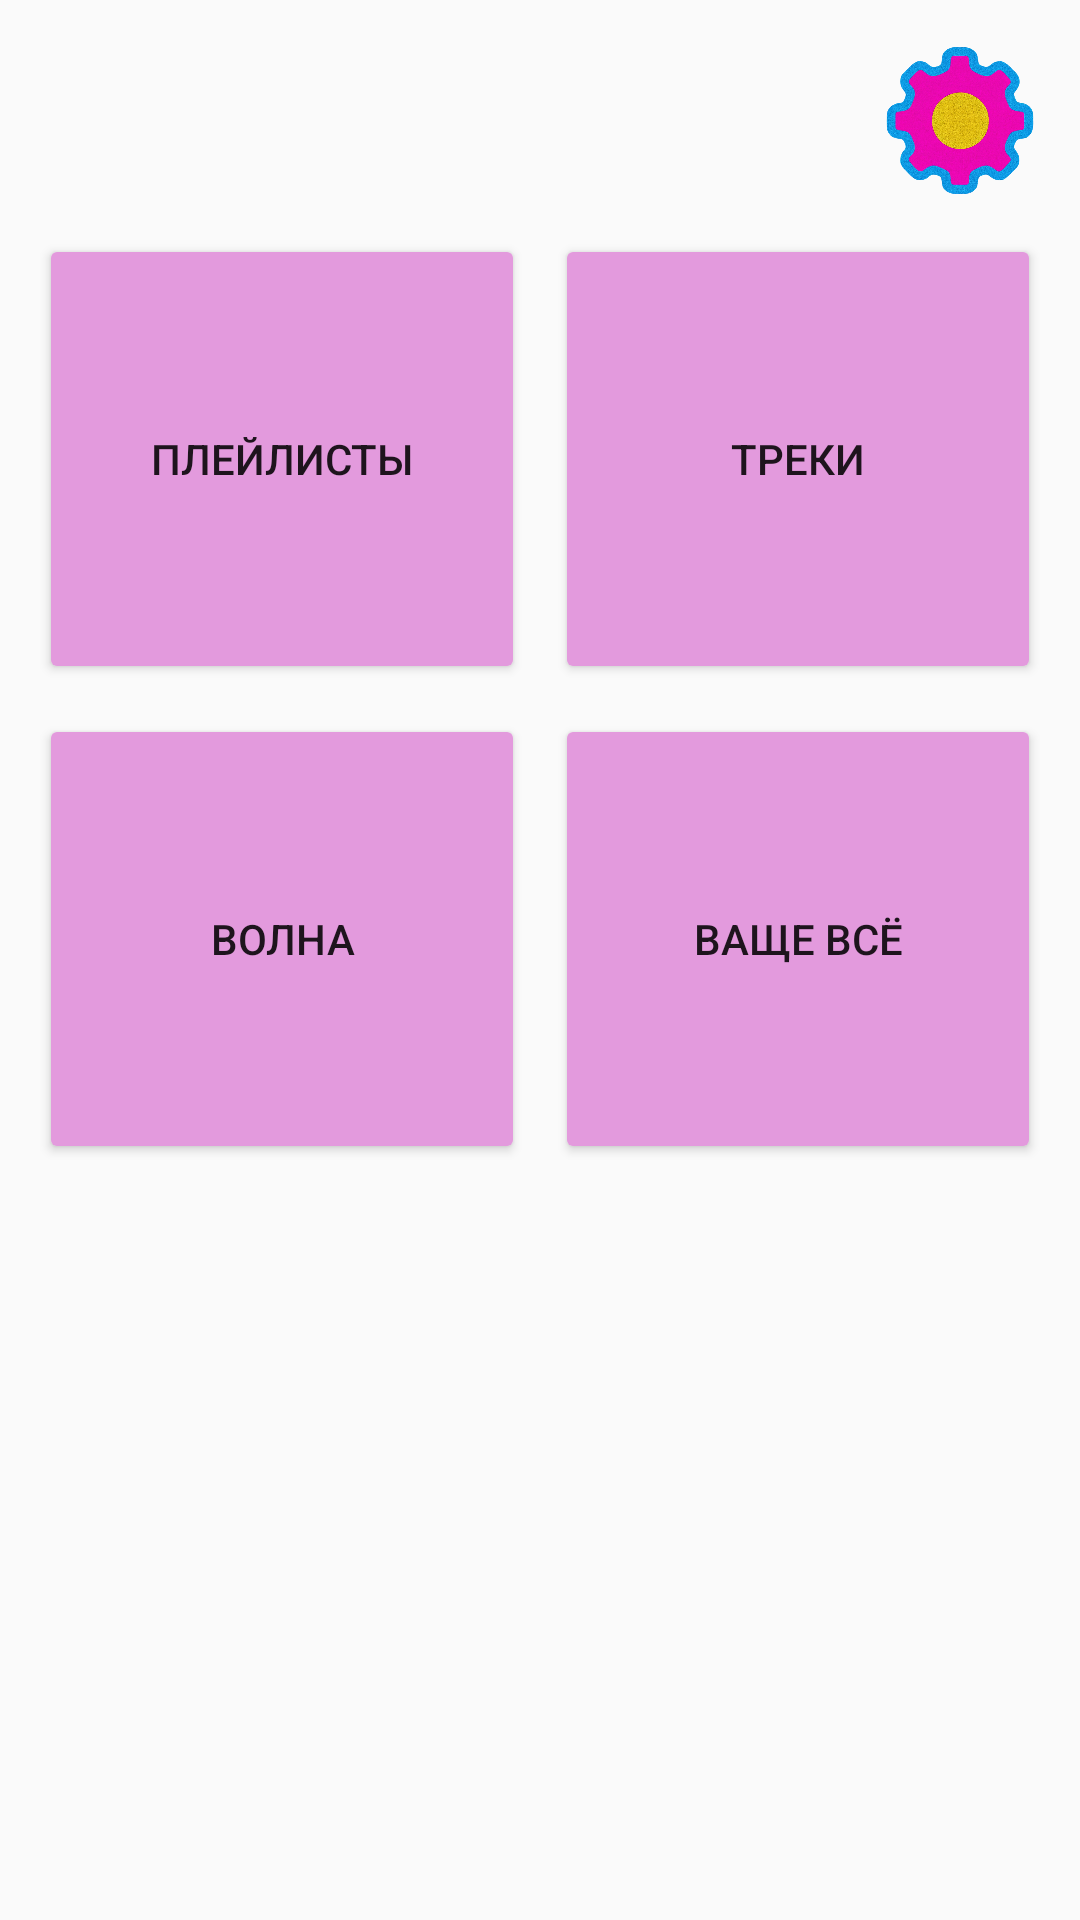

Locate icon controls on the screen. Image size 1080 x 1920, boxes as (x1, y1, x2, y2).
setting: (886, 47, 1034, 194)
